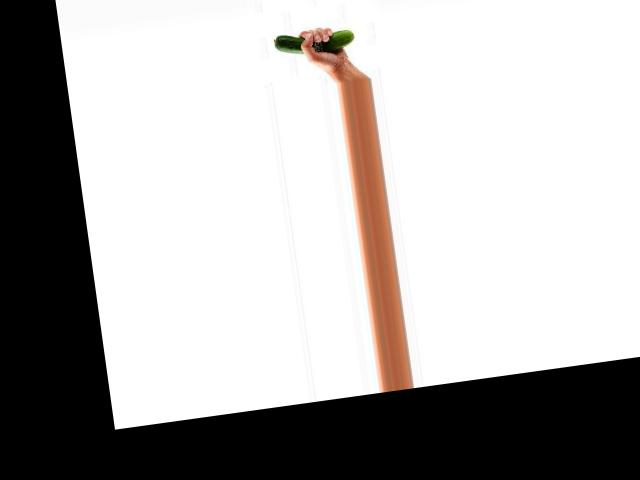cucumber: (273, 24, 355, 59)
